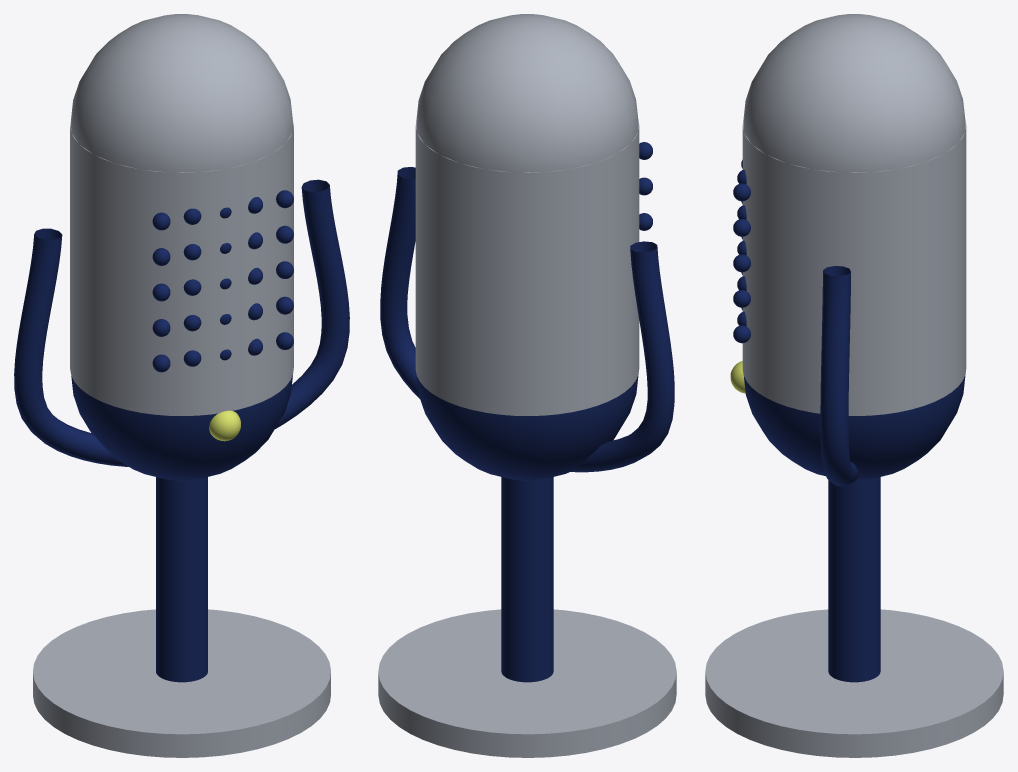
3 renders of one model, left to right at view 1: azimuth 30°, elevation 25°; view 2: azimuth 150°, elevation 25°; view 3: azimuth 270°, elevation 25°, orthographic.
Visible parts, largest first — view 1: full-height microphone grille, metal barrel (×2), signal node (×2), microphone cradle, live source indicator; view 2: full-height microphone grille, metal barrel (×2), signal node (×2), microphone cradle; view 3: full-height microphone grille, metal barrel (×2), signal node (×2), microphone cradle.
Part boxes in pixels (box(x1,y1,x2,y2)): full-height microphone grille: box(70, 120, 293, 415); metal barrel (×2): box(33, 477, 330, 757); signal node (×2): box(71, 14, 292, 480); microphone cradle: box(14, 179, 349, 466); live source indicator: box(209, 410, 240, 441); full-height microphone grille: box(415, 120, 639, 415); metal barrel (×2): box(378, 477, 676, 757); signal node (×2): box(416, 14, 638, 480); microphone cradle: box(380, 167, 674, 472); full-height microphone grille: box(742, 120, 966, 415); metal barrel (×2): box(705, 477, 1003, 757); signal node (×2): box(743, 14, 965, 480); microphone cradle: box(820, 266, 858, 486).
Bounding box in the file's own units: 0.965 × 1.99 × 0.8.
